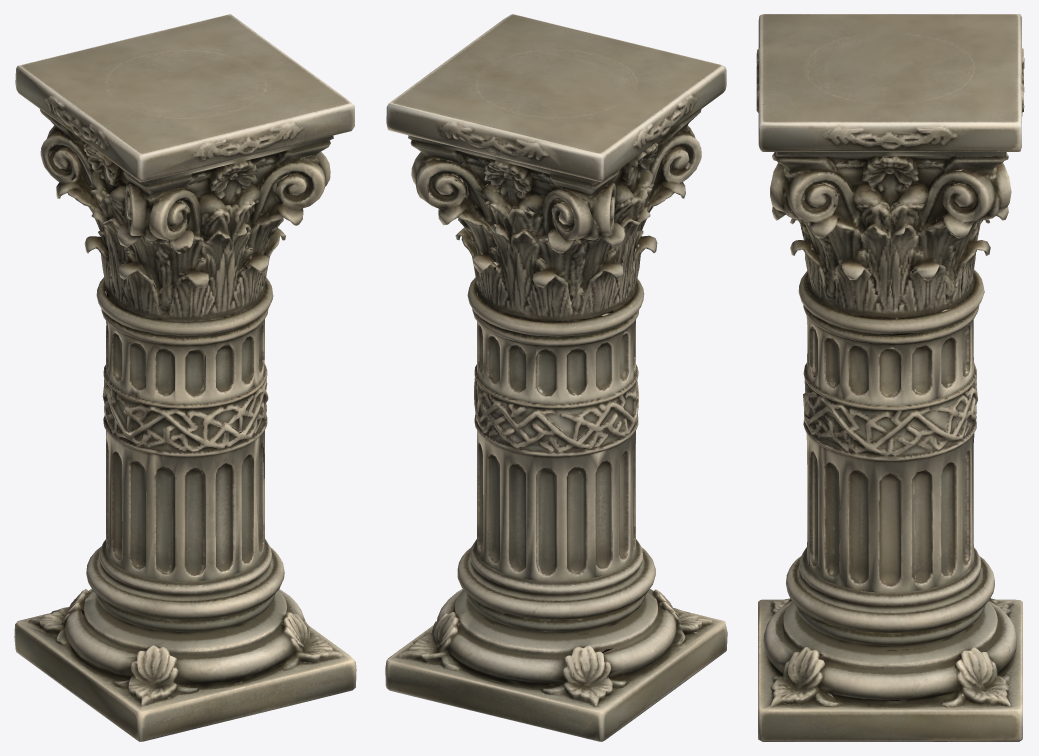
File: Corinthian_Column.fbx
The picture shows the model from 3 angles, left to right: view 1: azimuth 30°, elevation 25°; view 2: azimuth 150°, elevation 25°; view 3: azimuth 270°, elevation 25°; orthographic projection. The views are drawn at different scales.
Parts seen in each view (by area): view 1: Corinthian_Column_LOD0; view 2: Corinthian_Column_LOD0; view 3: Corinthian_Column_LOD0.
Boxes of the visible parts, x1,y1,x2,y2 form: Corinthian_Column_LOD0: [14, 14, 356, 741]; Corinthian_Column_LOD0: [385, 14, 727, 741]; Corinthian_Column_LOD0: [756, 14, 1024, 741].
Size of what is drawn, in the model's own units: 0.7463 by 1.9 by 0.7457.
1 material, 1 textured.
